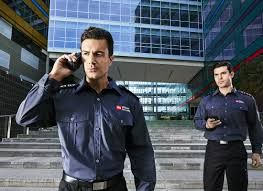uniform: (51, 81, 134, 186), (199, 86, 253, 185)
